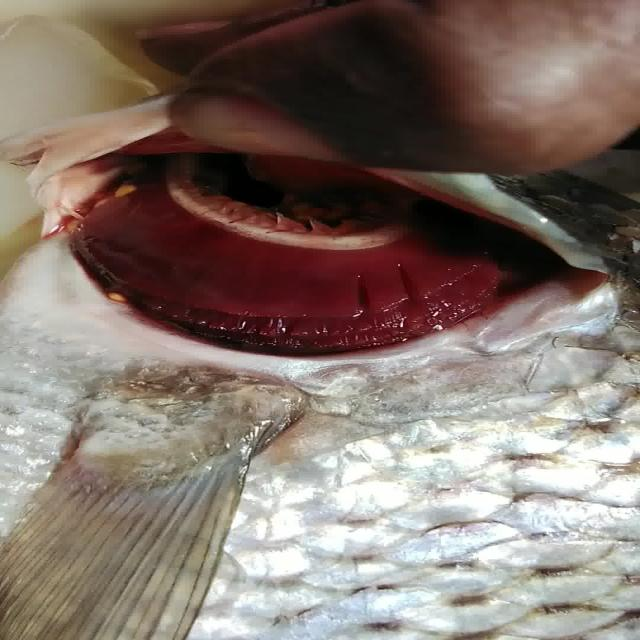Fresh: (61, 176, 571, 368)
